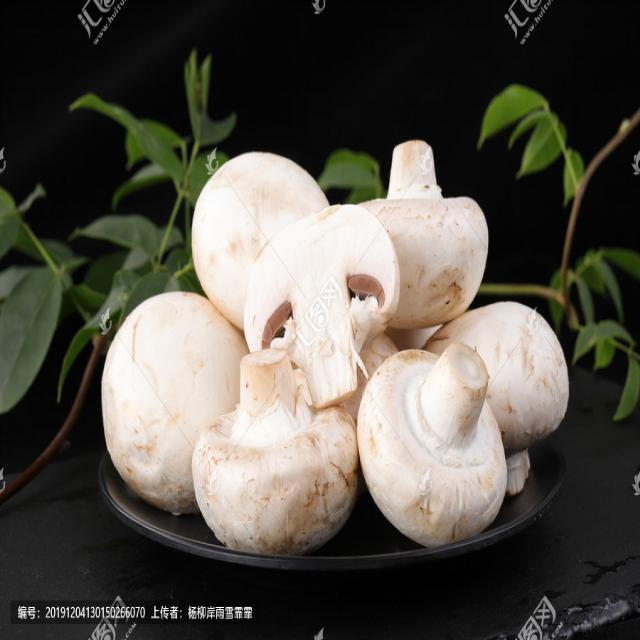Agaricus bisporus: (190, 346, 359, 555), (102, 292, 253, 515), (359, 340, 508, 548), (245, 206, 399, 404), (424, 308, 571, 494), (356, 138, 488, 328)
